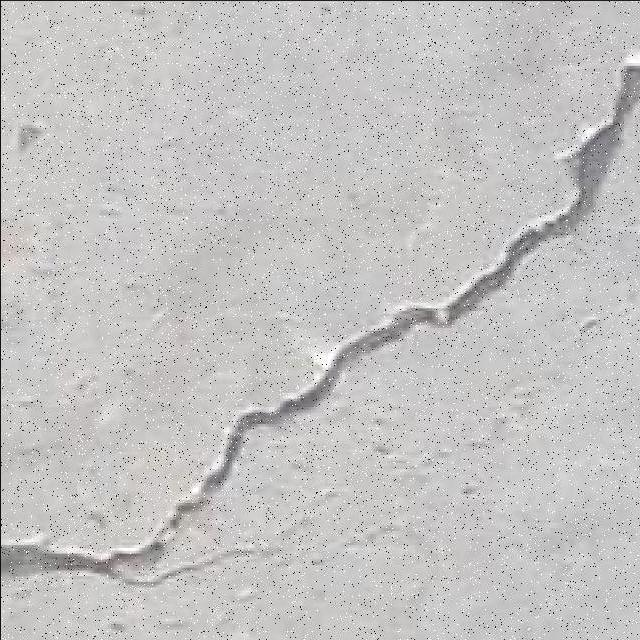crack: (65, 59, 621, 567), (6, 503, 240, 584), (183, 396, 307, 504), (274, 388, 315, 416)
